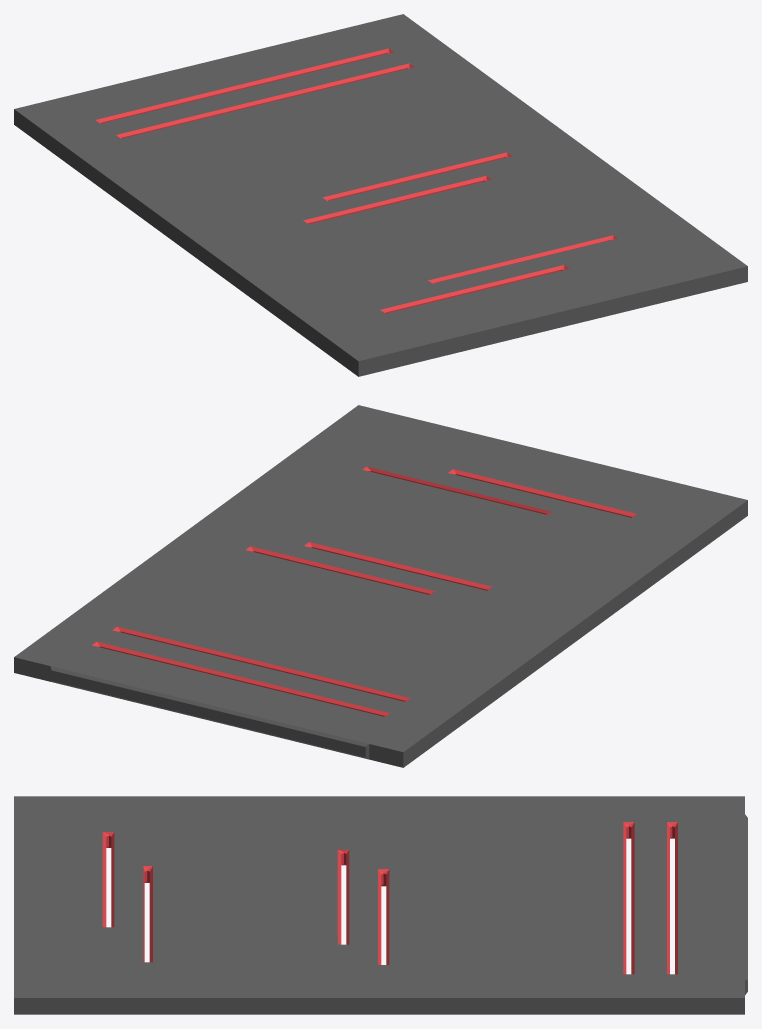
The model's file is FloorRoom.fbx.
3 renders of one model, top to bottom at view 1: azimuth 30°, elevation 25°; view 2: azimuth 150°, elevation 25°; view 3: azimuth 270°, elevation 25°, orthographic. The views are drawn at different scales.
Visible parts, largest first — view 1: Cube.001; view 2: Cube.001; view 3: Cube.001.
Boxes of the visible parts, box(x1,y1,x2,y2) form: Cube.001: box(14, 14, 747, 376); Cube.001: box(14, 405, 747, 767); Cube.001: box(14, 796, 747, 1014).
Size of the model in its own units: 52 by 2 by 80.02.
